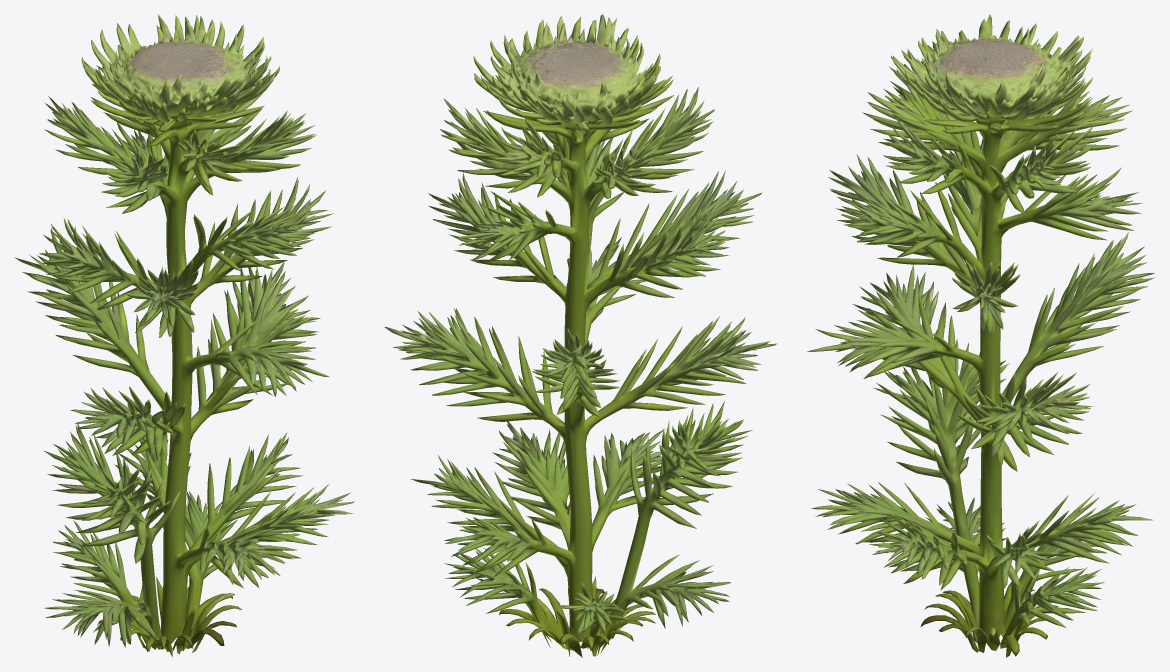
The model's file is hornwort.glb.
3 views of the same model, side by side, from view 1: azimuth 30°, elevation 25°; view 2: azimuth 150°, elevation 25°; view 3: azimuth 270°, elevation 25° (orthographic).
Parts seen in each view (by area): view 1: node_0; view 2: node_0; view 3: node_0.
Part boxes in pixels (x1,y1,x2,y2): node_0: [14, 14, 354, 656]; node_0: [384, 14, 776, 657]; node_0: [807, 14, 1154, 657].
Size of the model in its own units: 0.5302 by 1.04 by 0.5416.
1 material, 1 textured.
